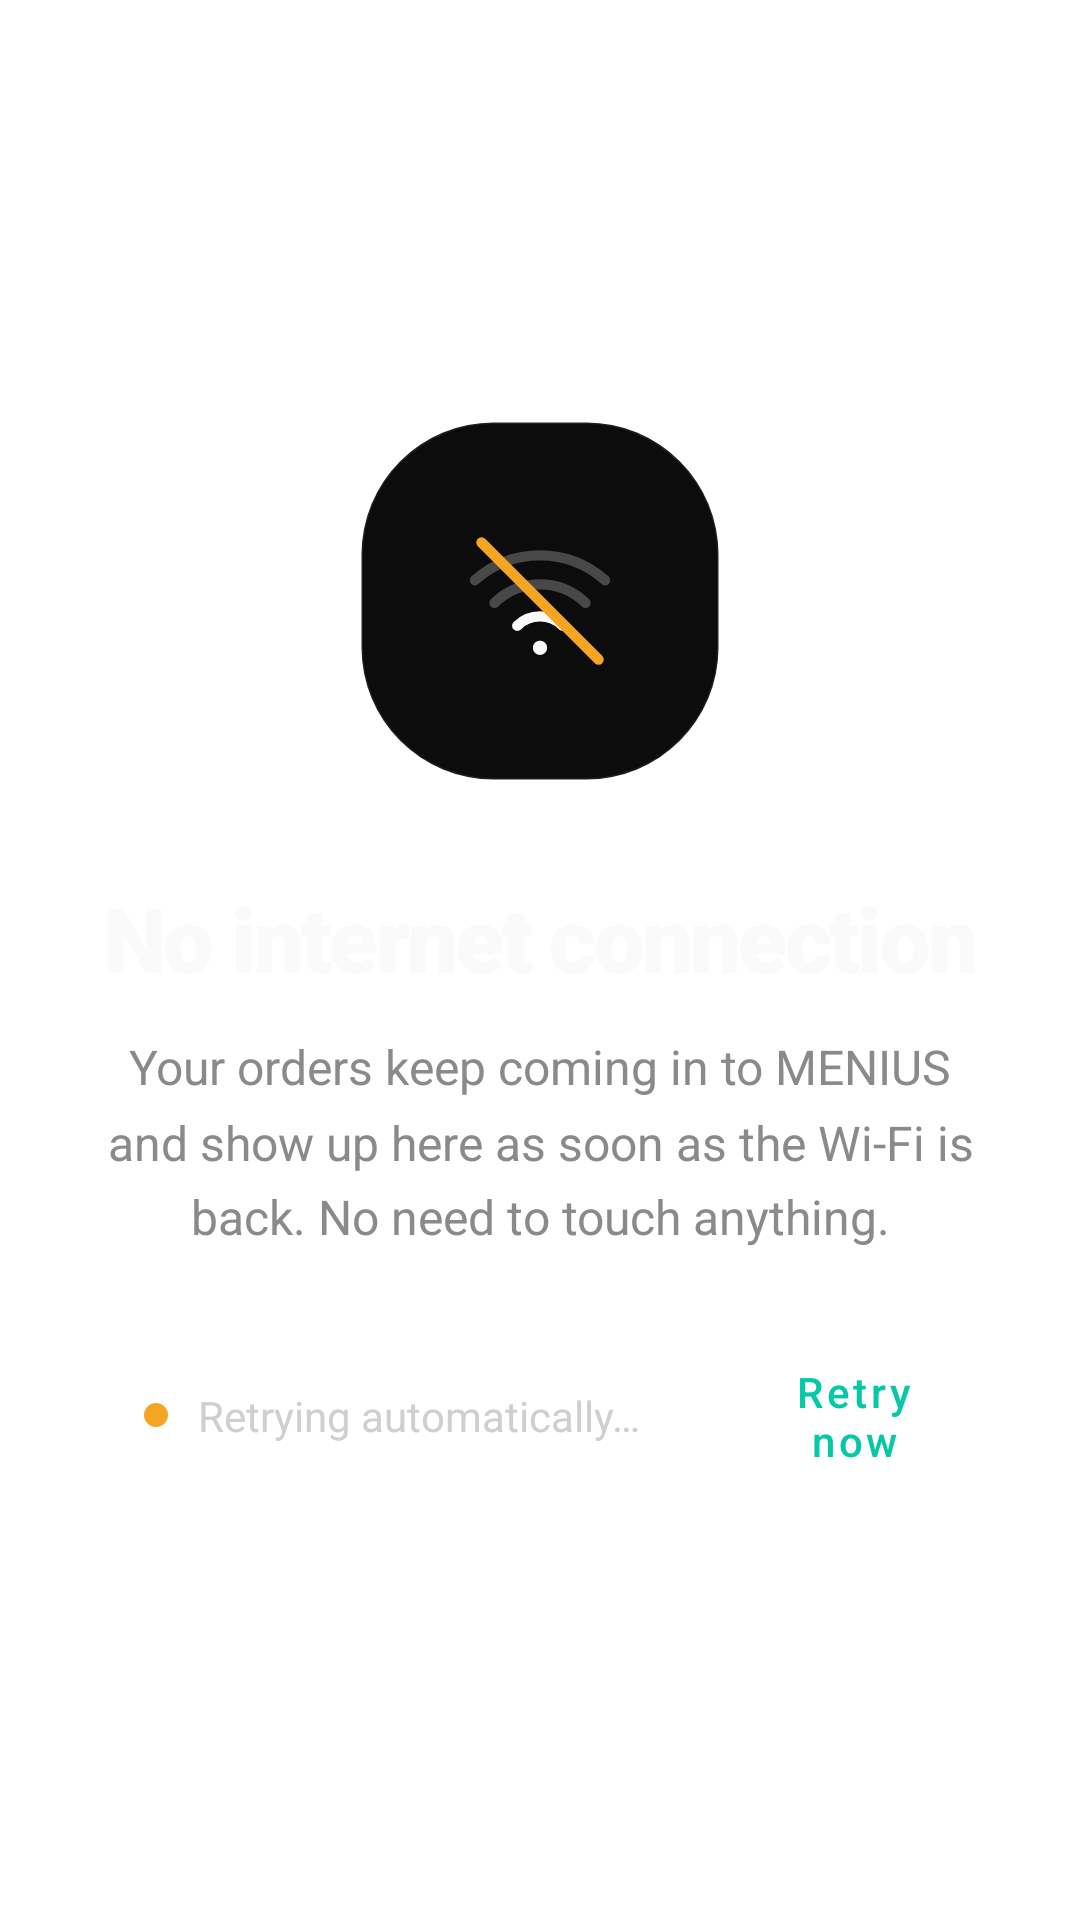

Icon bounding boxes for this 1080w x 1920h phone screenshot, format (x1, y1, x2, y2):
wifi off: (470, 537, 610, 665)
